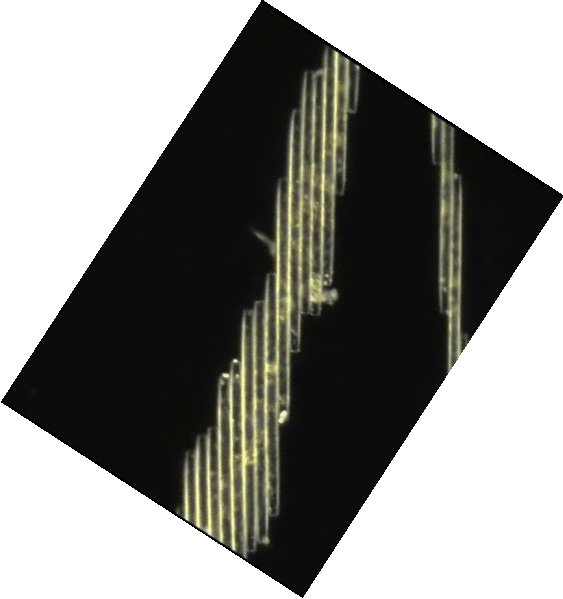bacilleria: (263, 271, 281, 517), (277, 179, 292, 427), (300, 71, 315, 317), (254, 301, 269, 545), (313, 69, 327, 318), (243, 310, 257, 553), (229, 359, 245, 551), (290, 110, 302, 352), (448, 172, 462, 370), (217, 373, 231, 546), (325, 45, 334, 290), (442, 123, 451, 312), (195, 434, 210, 530), (336, 51, 346, 193), (209, 427, 221, 539), (183, 451, 197, 524), (430, 113, 443, 165), (349, 59, 360, 113)
